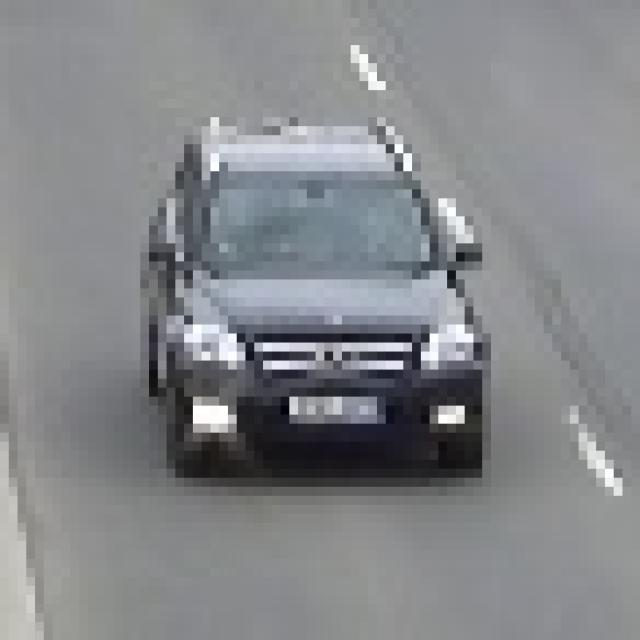SUV: (165, 131, 486, 465)
